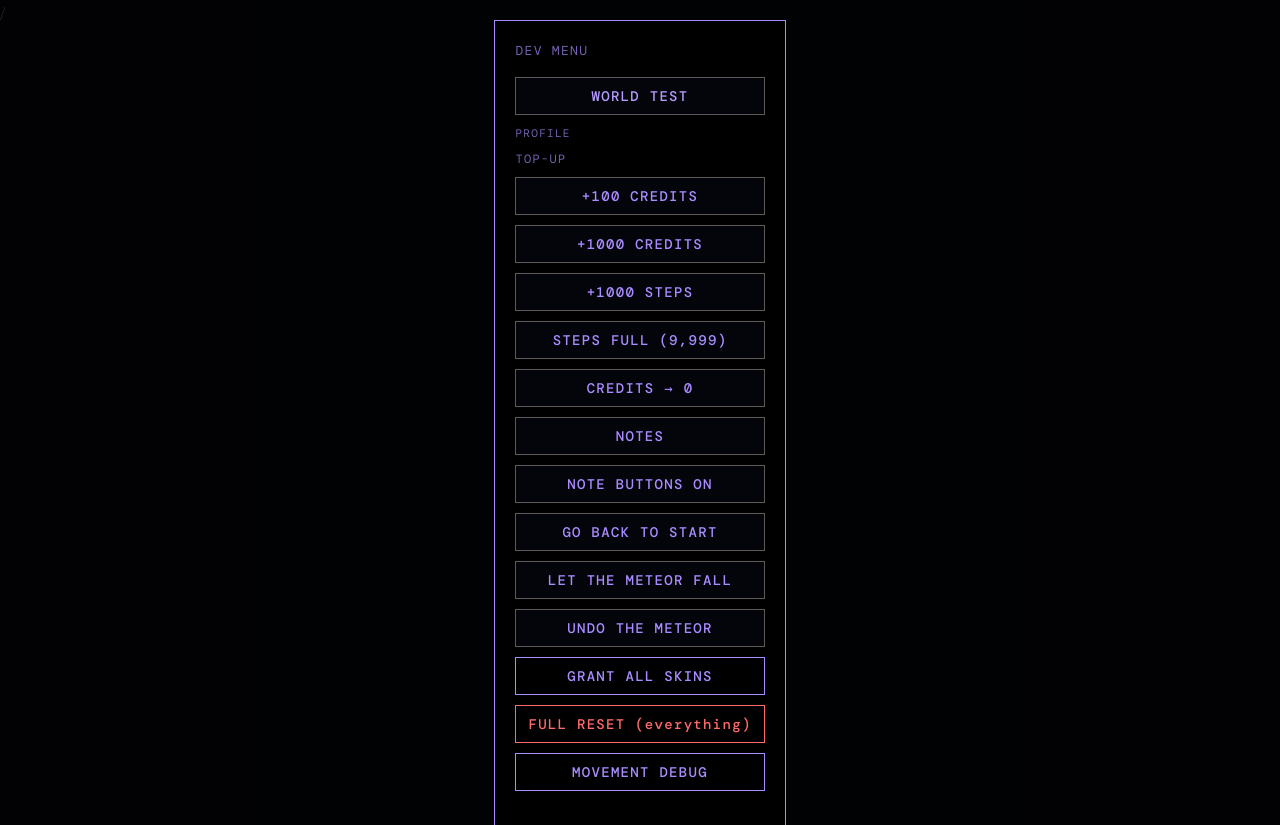
Scenario: complete dev restart › requires in-app confirmation, calls the existing RPC and navigates to intro preserving auth
The image size is (1280, 825).
Click the button "GO BACK TO START": (640, 532) top-left (515, 513), bottom-right (764, 551)
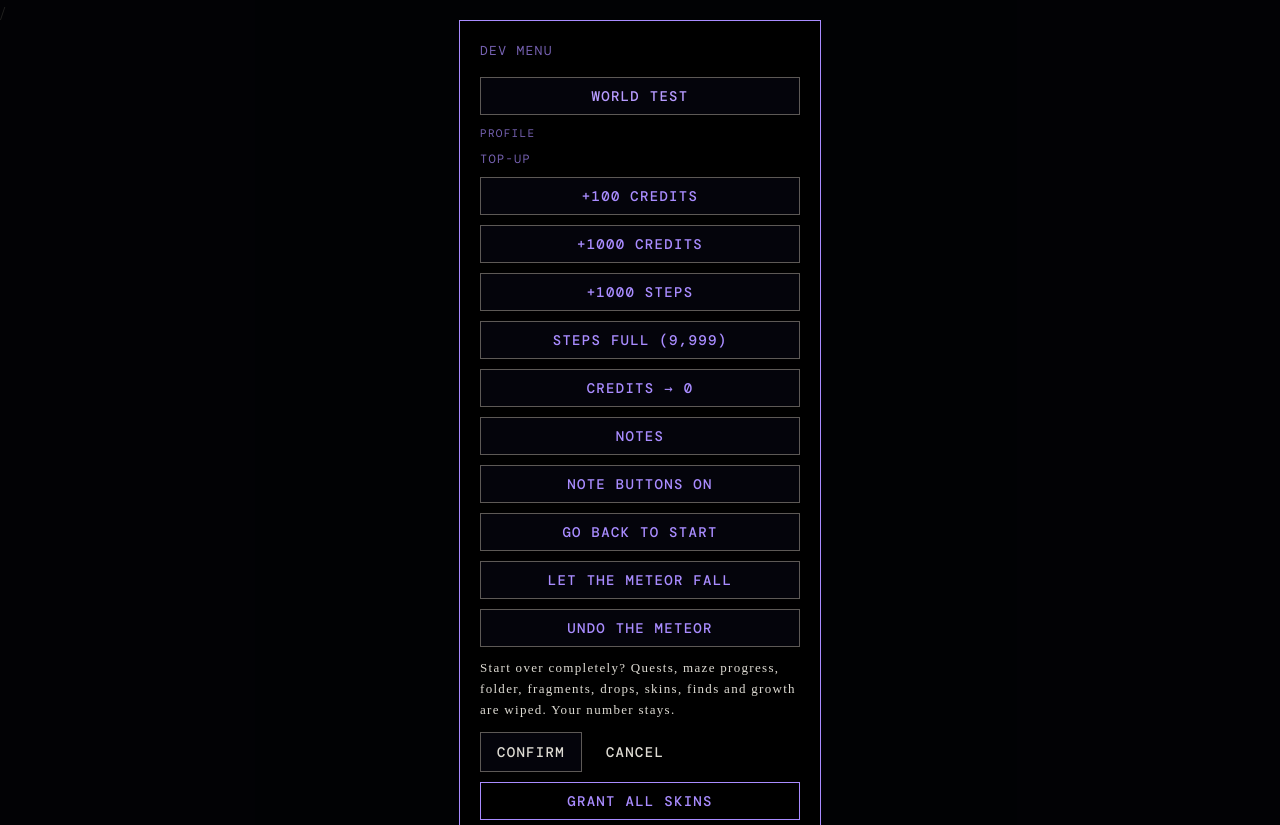
Click the button "CANCEL": (635, 752) top-left (590, 732), bottom-right (680, 772)
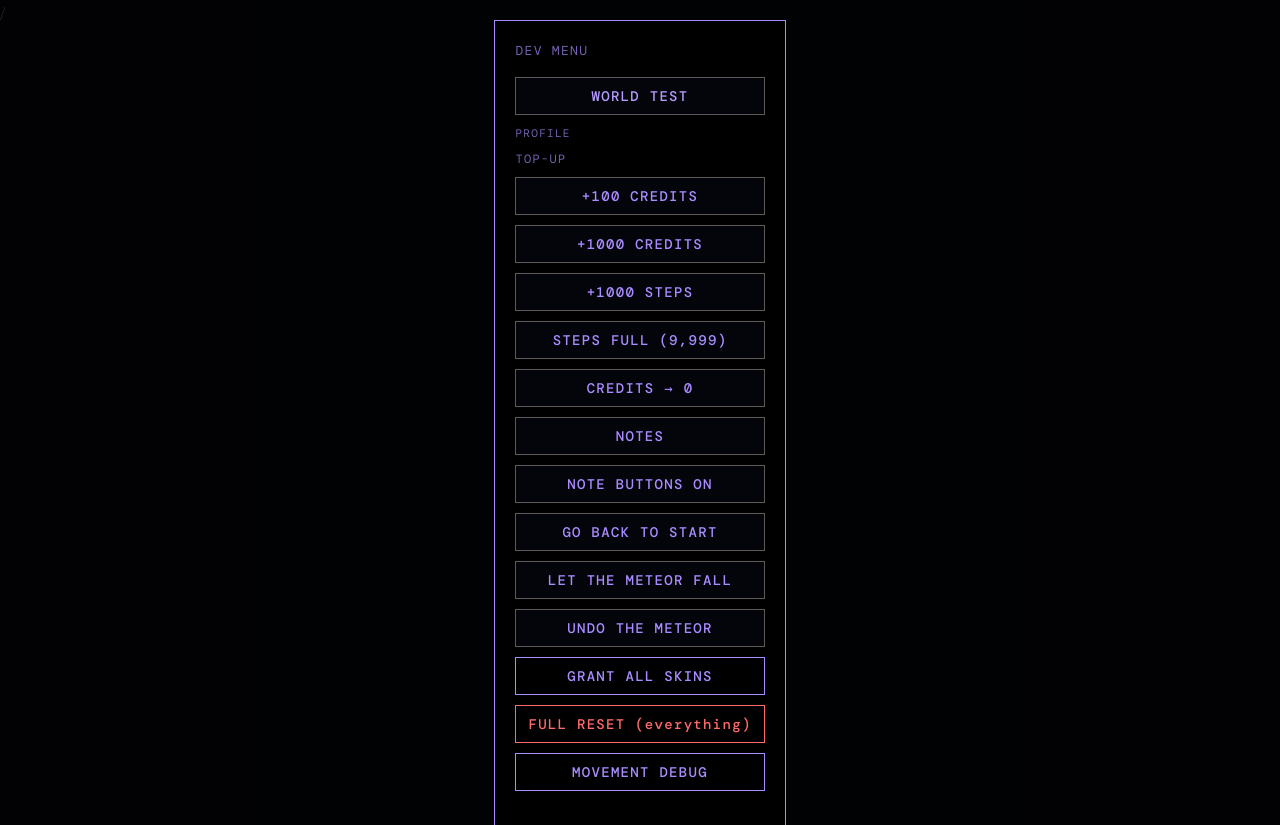
Click the button "GO BACK TO START": (640, 532) top-left (515, 513), bottom-right (764, 551)
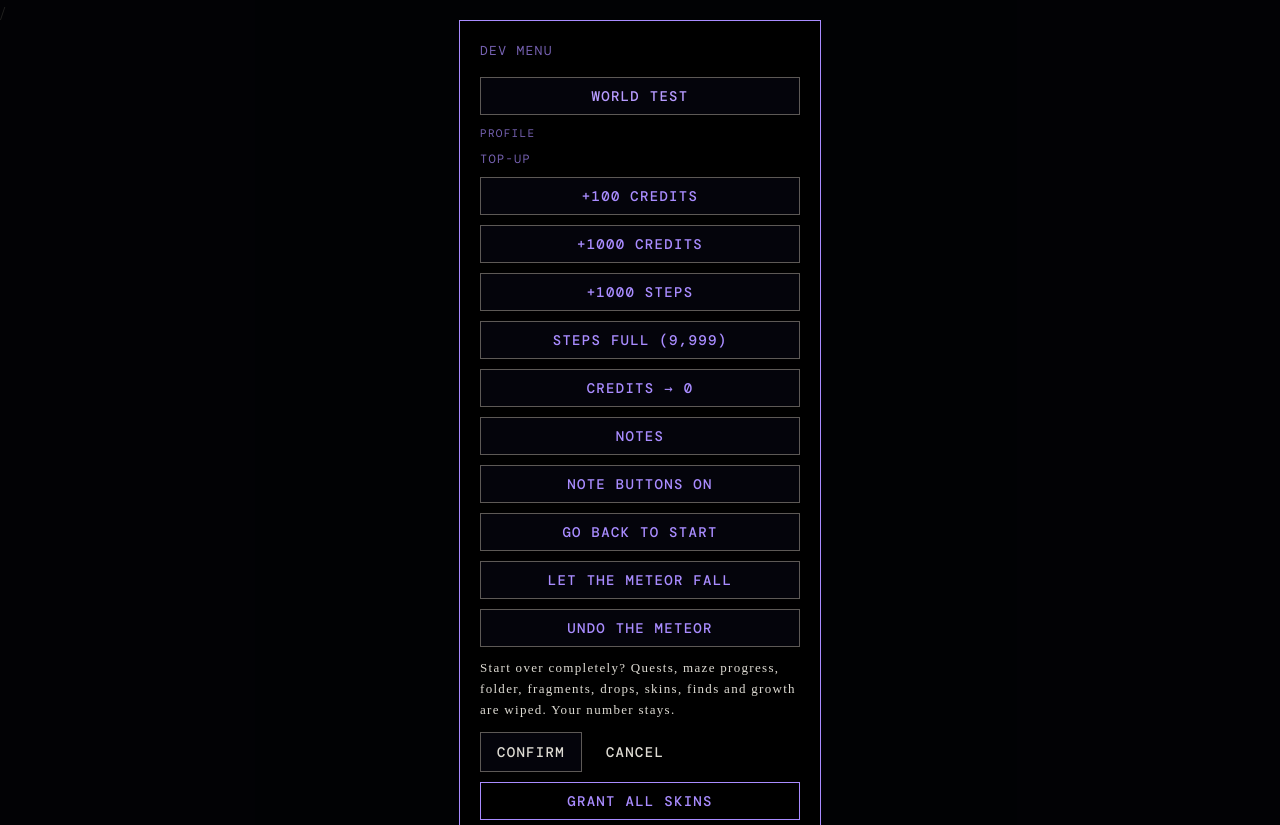
Click the button "CONFIRM": (531, 752) top-left (480, 732), bottom-right (582, 772)
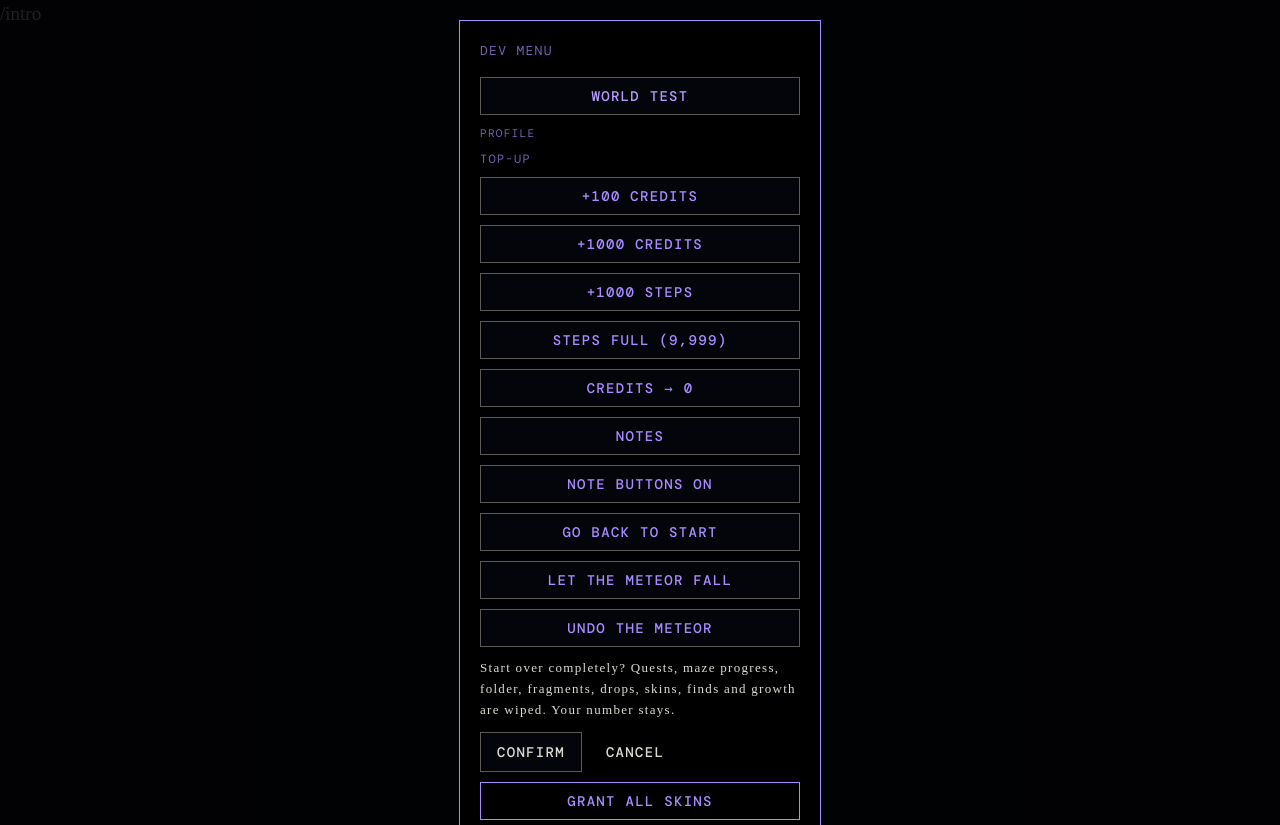
expect the text named "Destination" reads "/intro": met, box top-left (0, 3), bottom-right (41, 24)
